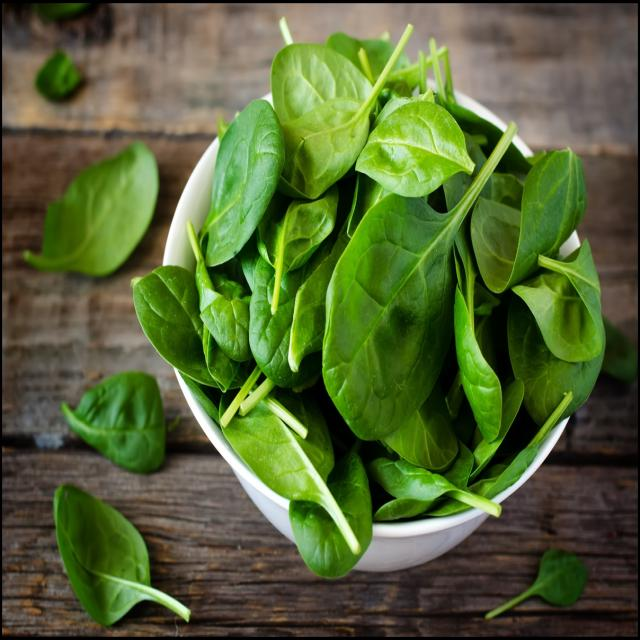spinach: (315, 196, 446, 427), (50, 482, 154, 630), (269, 38, 369, 190), (41, 140, 158, 268), (202, 101, 282, 259), (368, 98, 474, 195), (70, 367, 166, 472), (516, 146, 590, 254), (230, 416, 332, 488), (133, 270, 199, 358), (534, 545, 594, 610)
